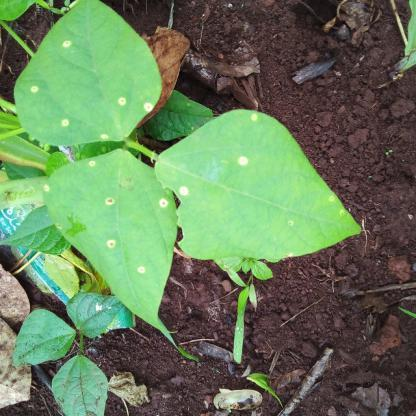Beans_Rust: (154, 112, 363, 260), (47, 153, 177, 349), (14, 0, 156, 144)
